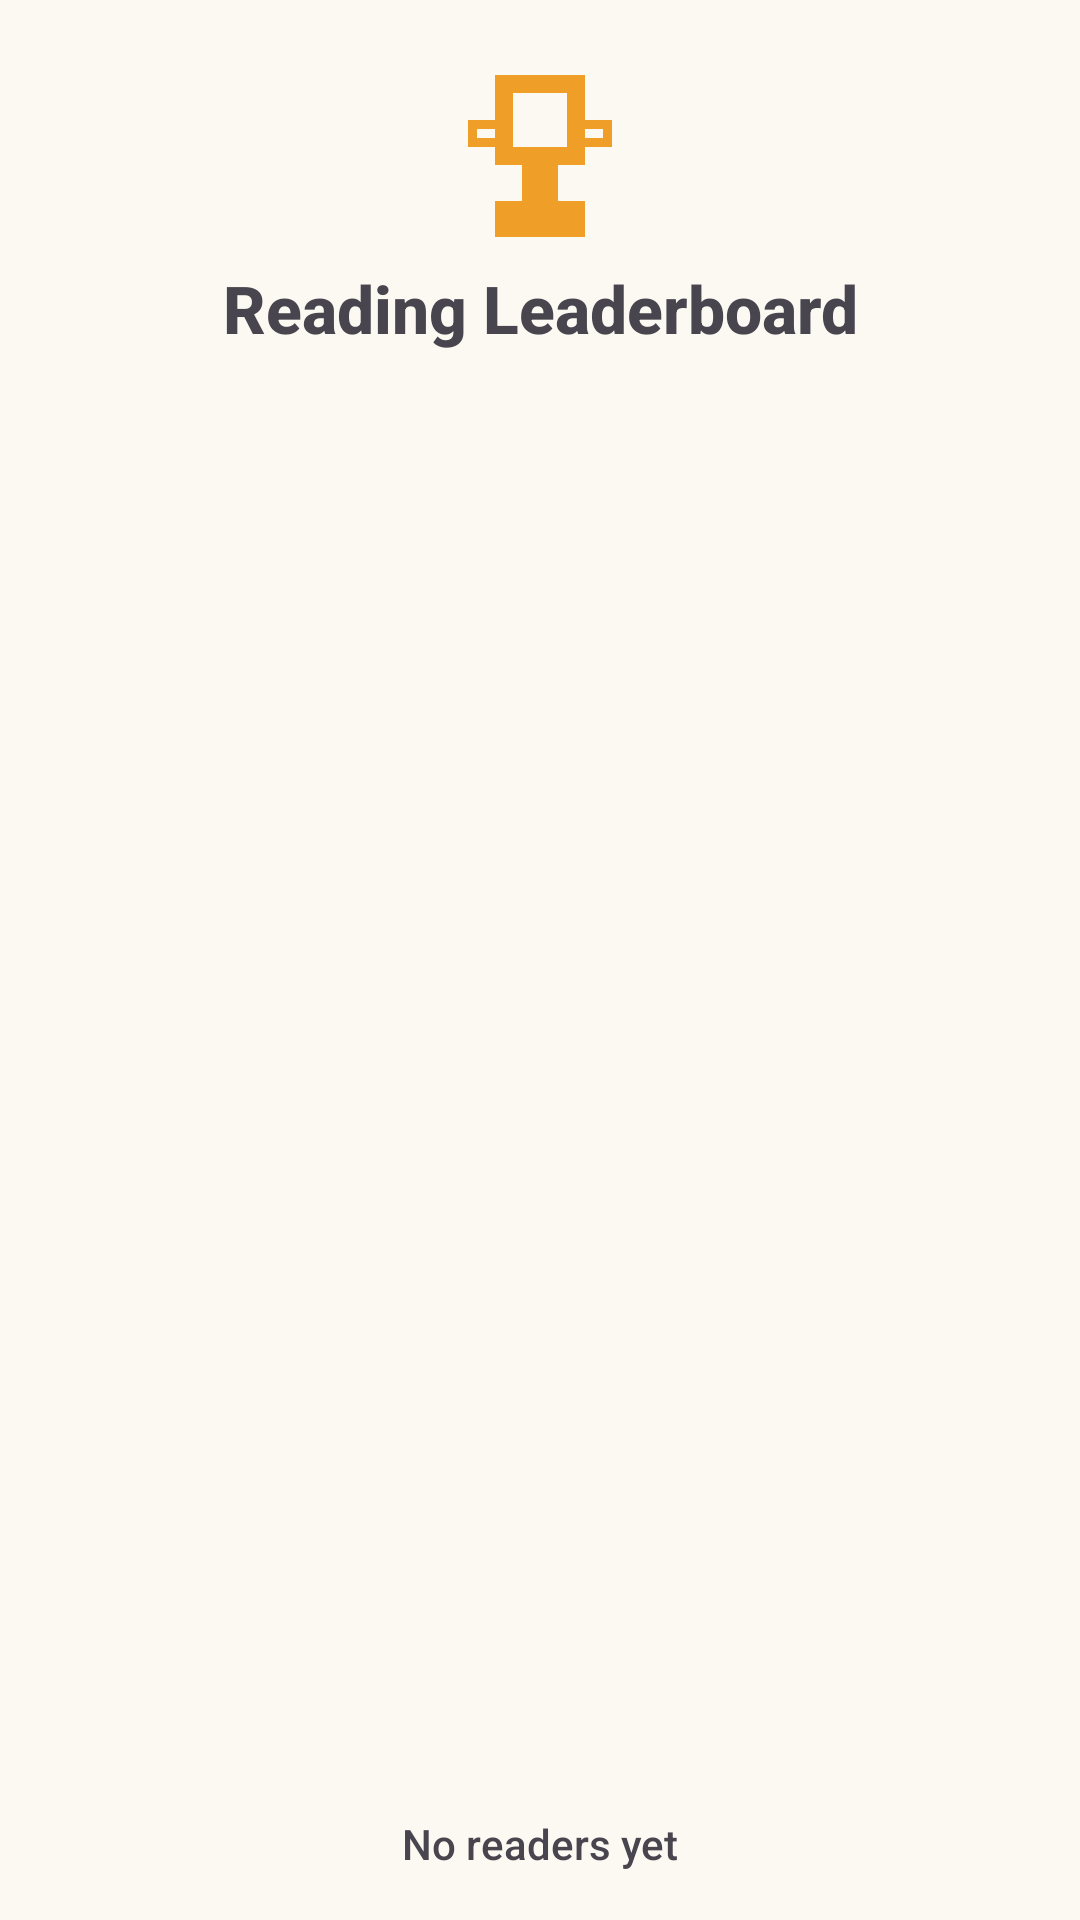

Named icons in this screenshot (1080×1920) and their centers, [x,y]:
trophy: [540,156]
